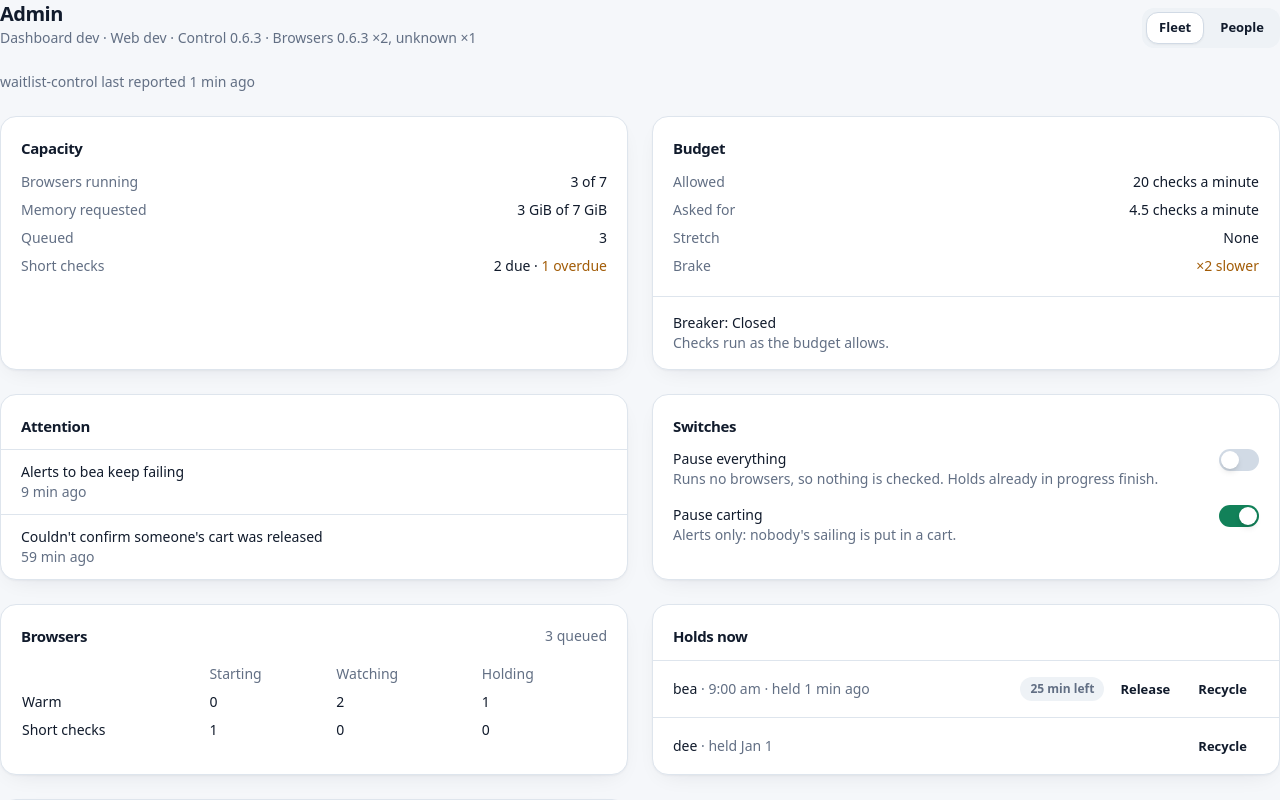
it: people › signs someone out everywhere, but not yourself
Click the button "People".
click(1242, 28)  # box [1208,12,1276,44]
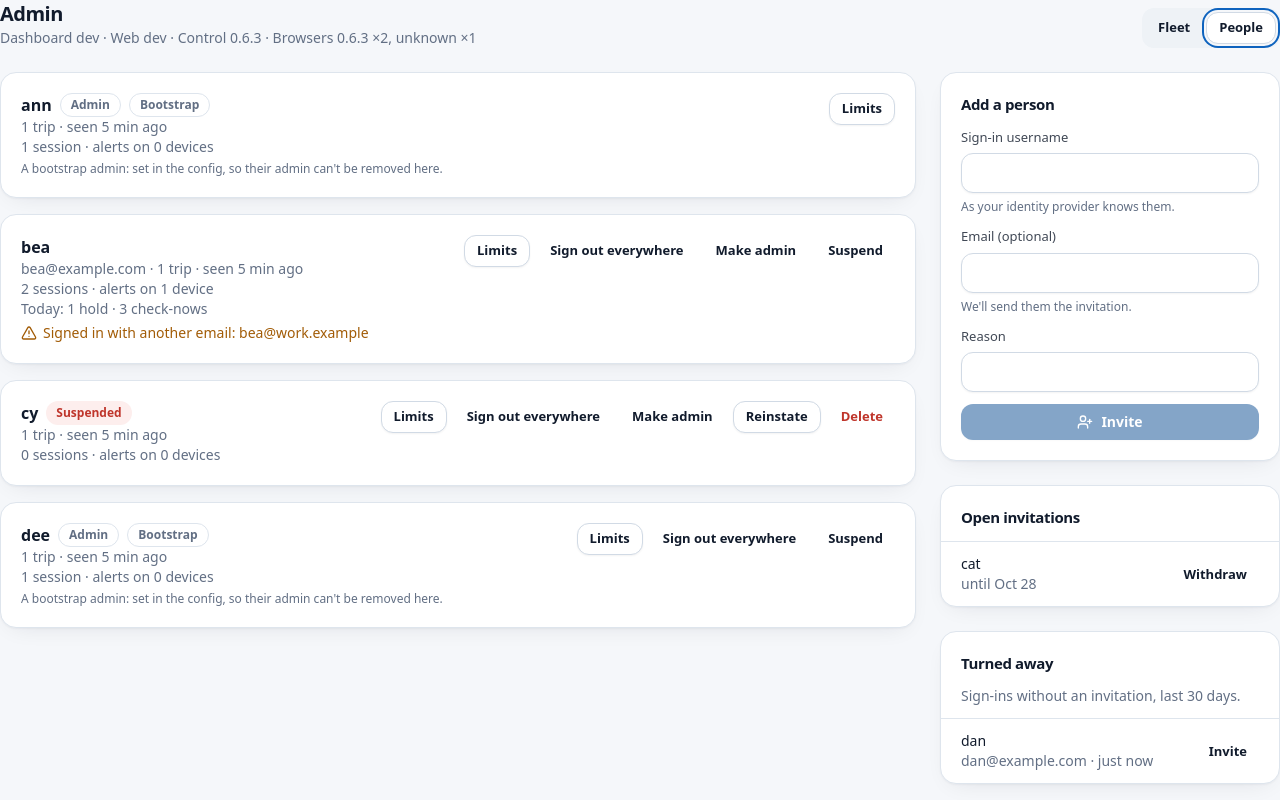
Click the button with aria-label "Sign out everywhere for bea".
click(617, 251)  # box [538,235,696,267]
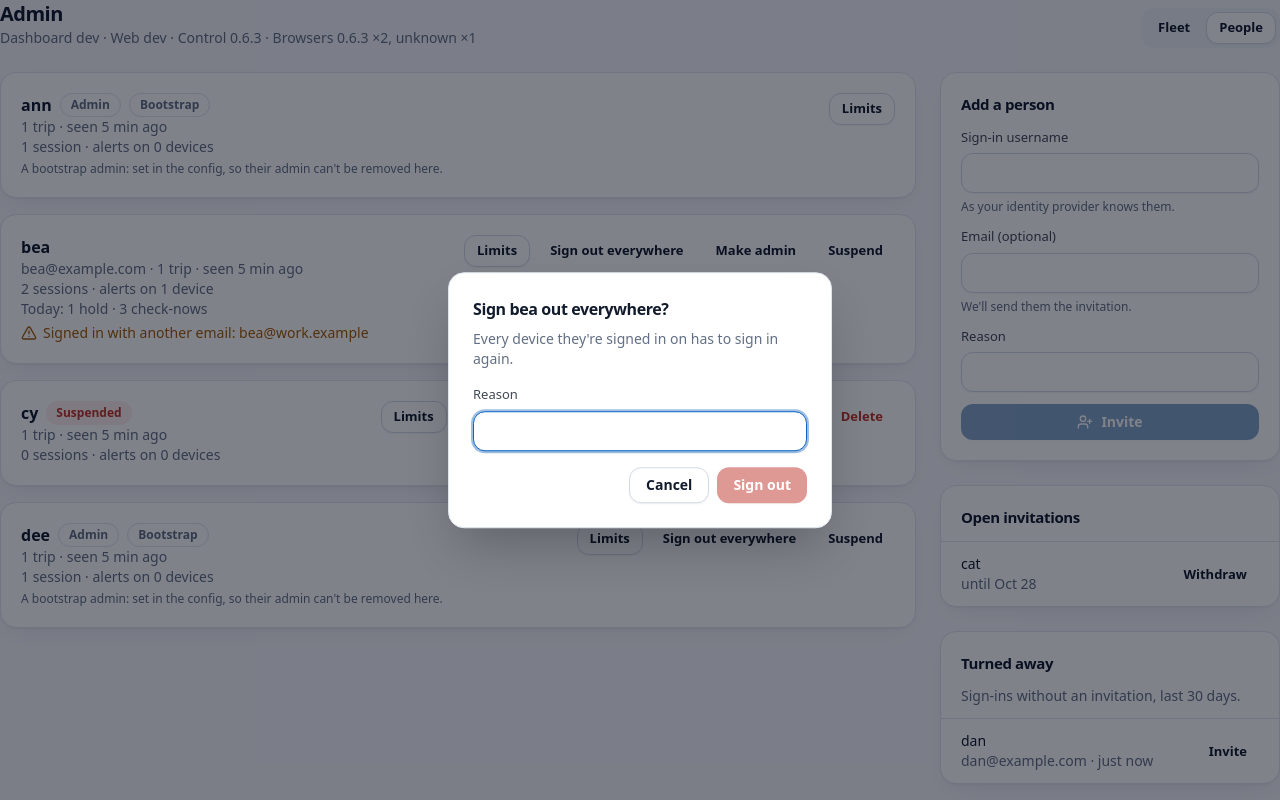
Type "lost phone" into the field labelled "Reason".
click(640, 431); type("lost phone")  # box [473,411,807,451]
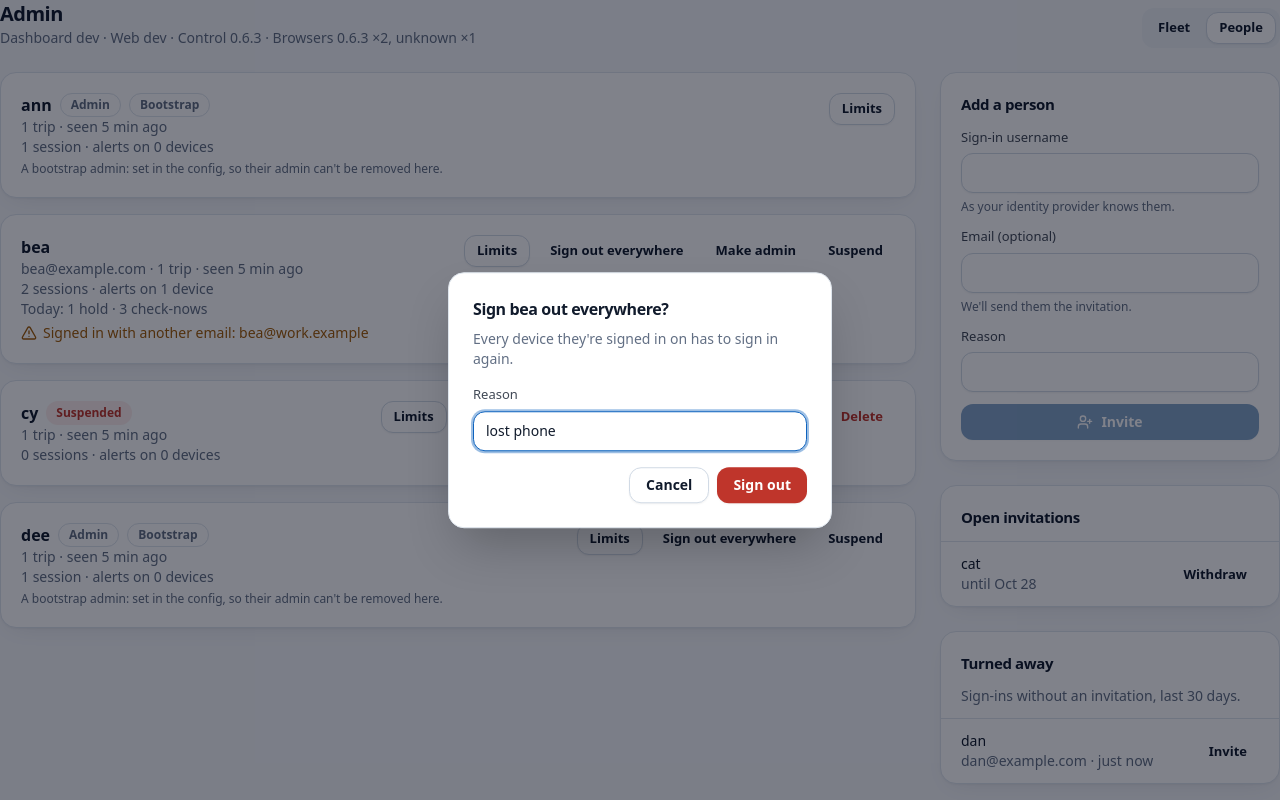
Click the button "Sign out".
click(762, 485)  # box [717,467,807,503]
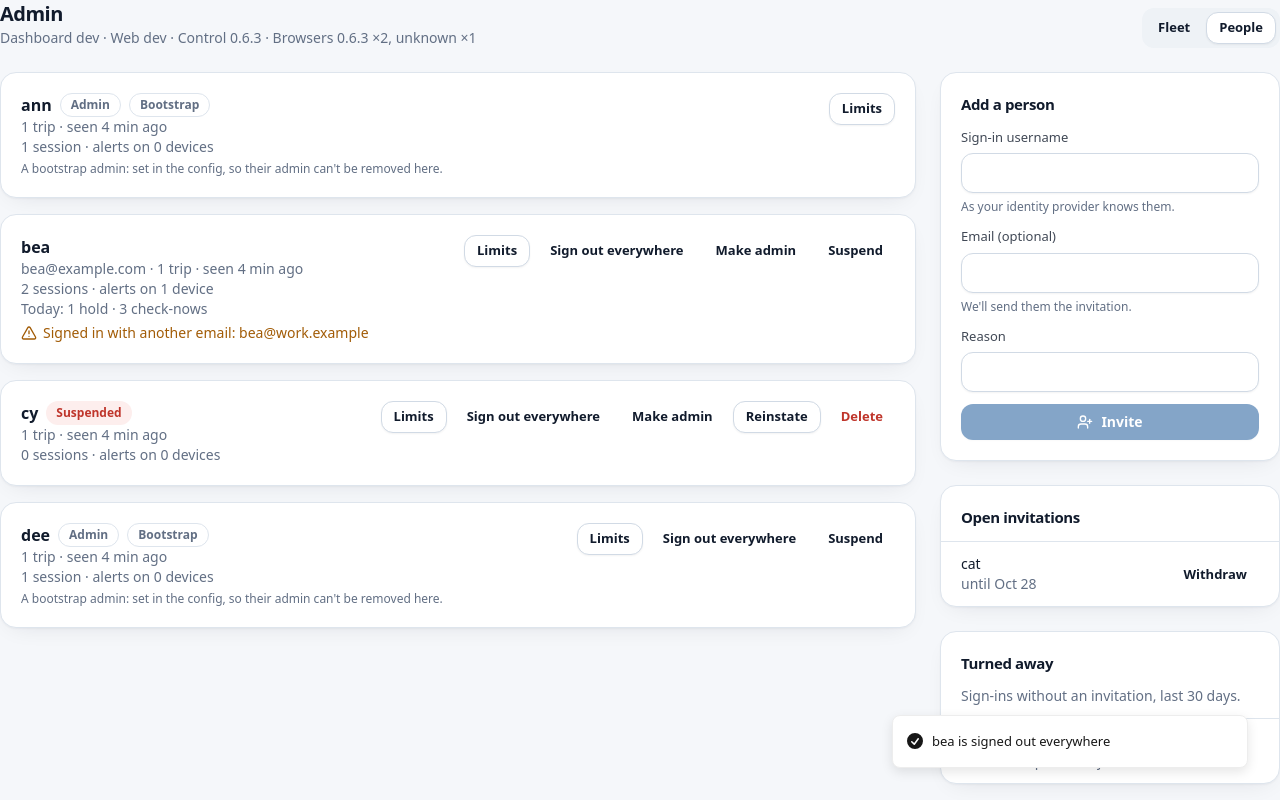
Check: the dialog is gone
